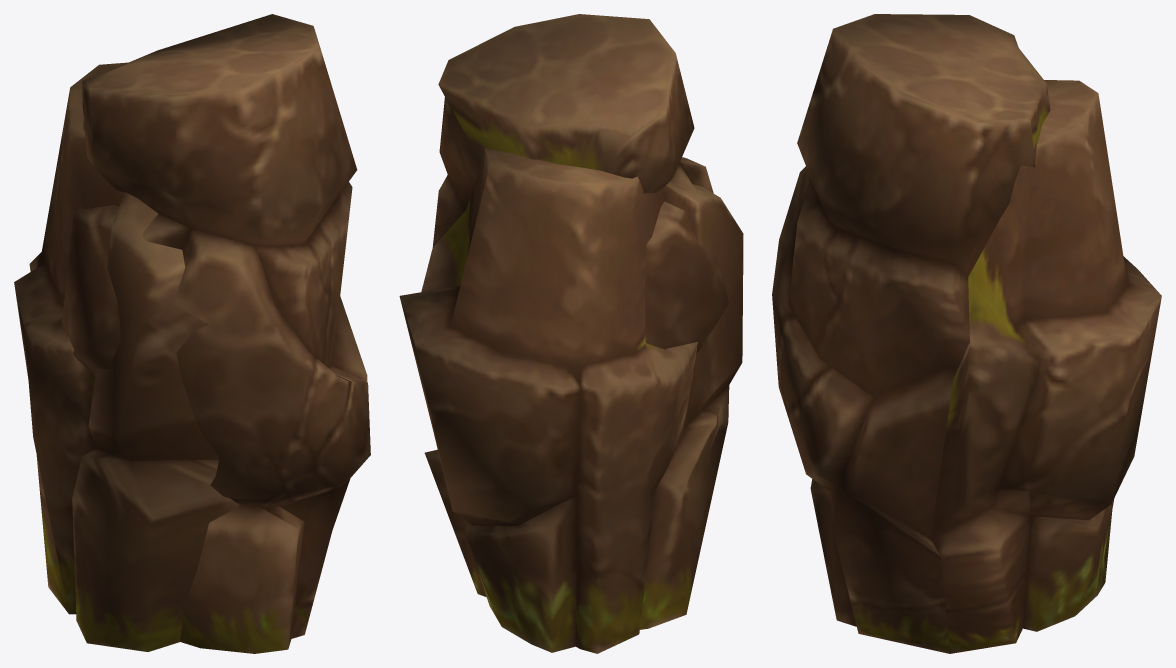
Rendered from oTerRockPillar01a.FBX.
The picture shows the model from 3 angles, left to right: view 1: azimuth 30°, elevation 25°; view 2: azimuth 150°, elevation 25°; view 3: azimuth 270°, elevation 25°; orthographic projection. The views are drawn at different scales.
Parts seen in each view (by area): view 1: oTerRockPillar01a; view 2: oTerRockPillar01a; view 3: oTerRockPillar01a.
Boxes of the visible parts, box(x1,y1,x2,y2) form: oTerRockPillar01a: box(14, 14, 370, 653); oTerRockPillar01a: box(399, 14, 743, 653); oTerRockPillar01a: box(772, 14, 1161, 653).
Size of the model in its own units: 19.32 by 22.76 by 36.72.
